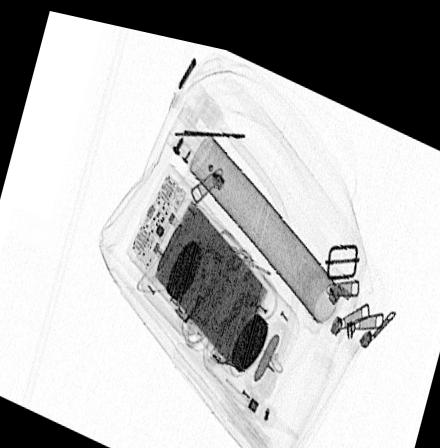Powerbank: (124, 156, 276, 364)
